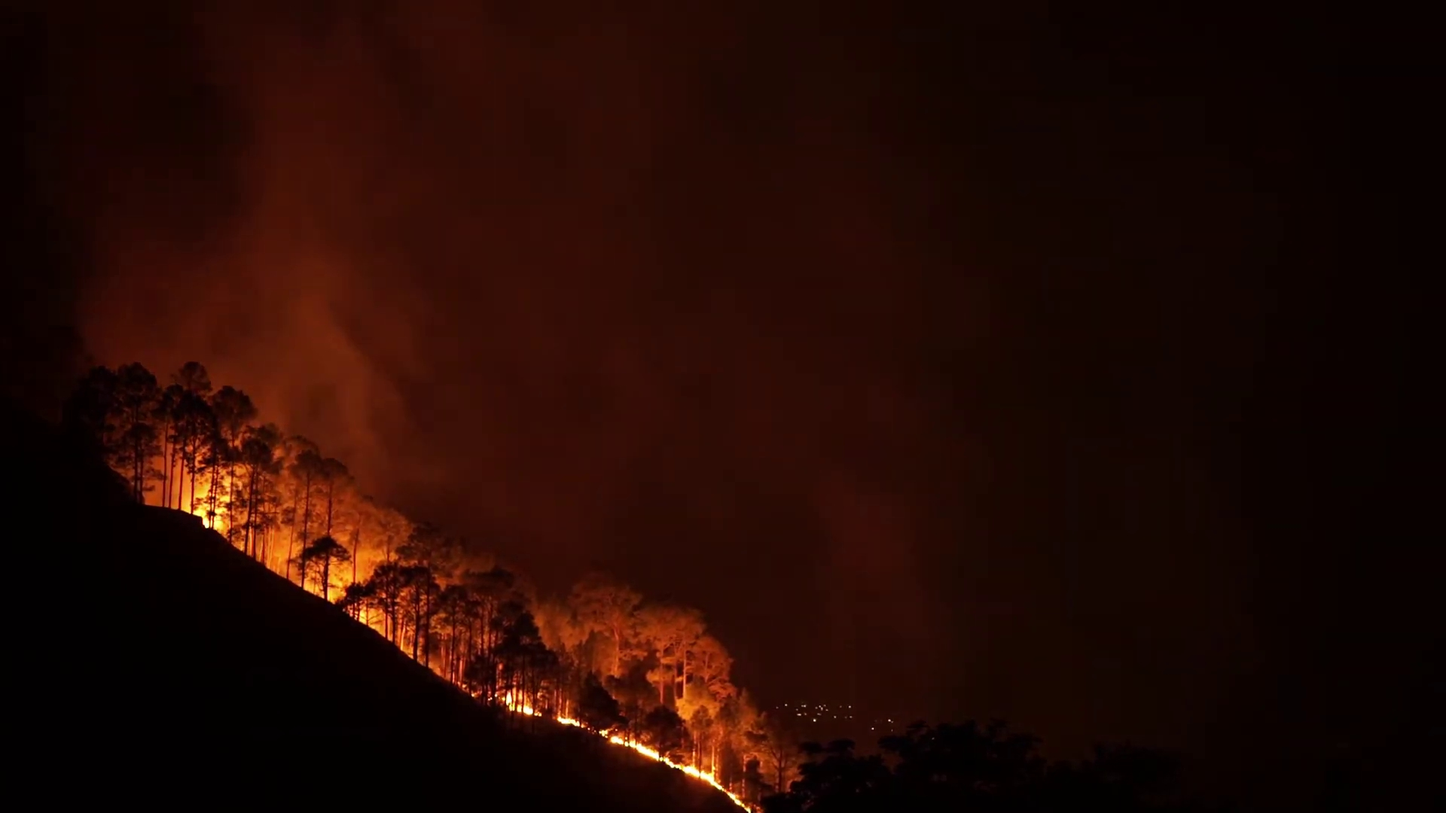forest_fire: (593, 729, 754, 812), (505, 692, 584, 728), (187, 489, 217, 529), (170, 496, 182, 509)
